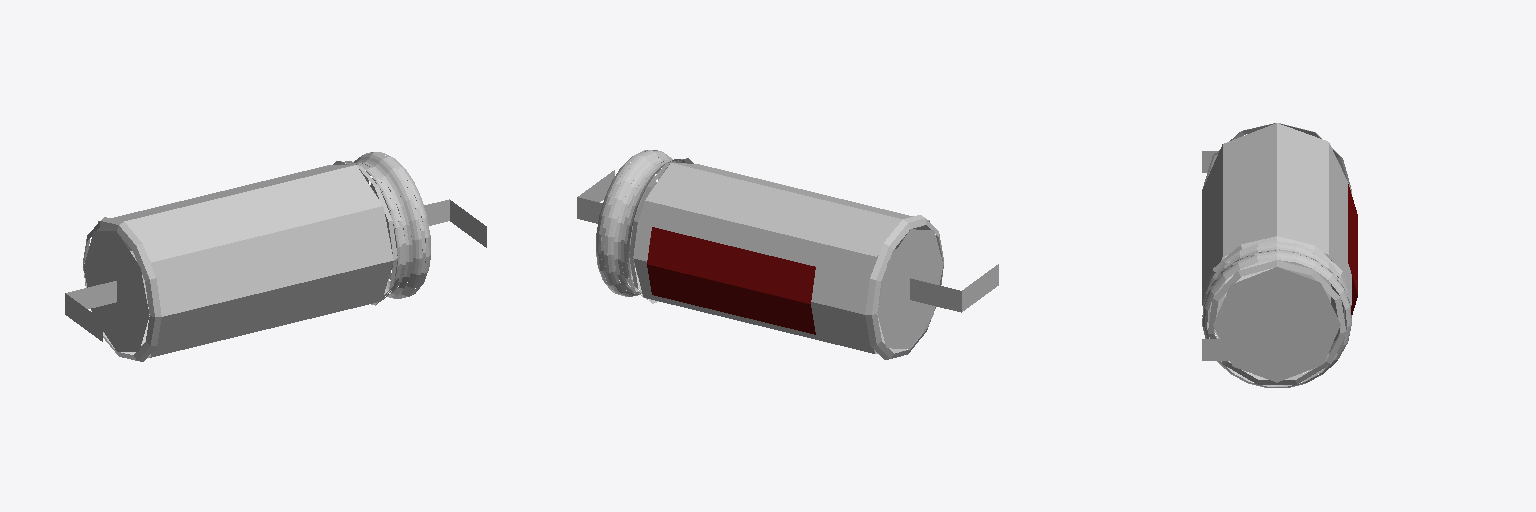
The picture shows the model from 3 angles: view 1: azimuth 30°, elevation 25°; view 2: azimuth 150°, elevation 25°; view 3: azimuth 270°, elevation 25°; orthographic projection.
Visible parts, largest first — view 1: ShapeIndexedFaceSet.015_ShapeIndexedFaceSet.016, ShapeIndexedFaceSet.016_ShapeIndexedFaceSet.017, ShapeIndexedFaceSet.014_ShapeIndexedFaceSet.015, ShapeIndexedFaceSet.017_ShapeIndexedFaceSet.018, ShapeIndexedFaceSet.018_ShapeIndexedFaceSet, ShapeIndexedFaceSet.011_ShapeIndexedFaceSet.012, ShapeIndexedFaceSet.007_ShapeIndexedFaceSet.008, ShapeIndexedFaceSet.010_ShapeIndexedFaceSet.011, ShapeIndexedFaceSet.003_ShapeIndexedFaceSet.004, ShapeIndexedFaceSet.006_ShapeIndexedFaceSet.007, ShapeIndexedFaceSet.005_ShapeIndexedFaceSet.006; view 2: ShapeIndexedFaceSet.015_ShapeIndexedFaceSet.016, ShapeIndexedFaceSet_ShapeIndexedFaceSet.001, ShapeIndexedFaceSet.001_ShapeIndexedFaceSet.002, ShapeIndexedFaceSet.016_ShapeIndexedFaceSet.017, ShapeIndexedFaceSet.014_ShapeIndexedFaceSet.015, ShapeIndexedFaceSet.017_ShapeIndexedFaceSet.018, ShapeIndexedFaceSet.011_ShapeIndexedFaceSet.012, ShapeIndexedFaceSet.007_ShapeIndexedFaceSet.008, ShapeIndexedFaceSet.018_ShapeIndexedFaceSet, ShapeIndexedFaceSet.010_ShapeIndexedFaceSet.011, ShapeIndexedFaceSet.003_ShapeIndexedFaceSet.004, ShapeIndexedFaceSet.005_ShapeIndexedFaceSet.006 (+1 smaller); view 3: ShapeIndexedFaceSet.015_ShapeIndexedFaceSet.016, ShapeIndexedFaceSet.012_ShapeIndexedFaceSet.013, ShapeIndexedFaceSet.013_ShapeIndexedFaceSet.014, ShapeIndexedFaceSet.018_ShapeIndexedFaceSet, ShapeIndexedFaceSet.010_ShapeIndexedFaceSet.011, ShapeIndexedFaceSet.009_ShapeIndexedFaceSet.010, ShapeIndexedFaceSet.003_ShapeIndexedFaceSet.004, ShapeIndexedFaceSet.005_ShapeIndexedFaceSet.006, ShapeIndexedFaceSet.001_ShapeIndexedFaceSet.002.
Boxes of the visible parts, x1=… form: ShapeIndexedFaceSet.015_ShapeIndexedFaceSet.016: x1=97, y1=165, x2=393, y2=357; ShapeIndexedFaceSet.016_ShapeIndexedFaceSet.017: x1=83, y1=231, x2=149, y2=351; ShapeIndexedFaceSet.014_ShapeIndexedFaceSet.015: x1=83, y1=217, x2=161, y2=361; ShapeIndexedFaceSet.017_ShapeIndexedFaceSet.018: x1=65, y1=281, x2=116, y2=341; ShapeIndexedFaceSet.018_ShapeIndexedFaceSet: x1=424, y1=199, x2=486, y2=247; ShapeIndexedFaceSet.011_ShapeIndexedFaceSet.012: x1=354, y1=153, x2=422, y2=298; ShapeIndexedFaceSet.007_ShapeIndexedFaceSet.008: x1=356, y1=159, x2=412, y2=295; ShapeIndexedFaceSet.010_ShapeIndexedFaceSet.011: x1=359, y1=152, x2=429, y2=294; ShapeIndexedFaceSet.003_ShapeIndexedFaceSet.004: x1=333, y1=161, x2=397, y2=305; ShapeIndexedFaceSet.006_ShapeIndexedFaceSet.007: x1=354, y1=157, x2=415, y2=297; ShapeIndexedFaceSet.005_ShapeIndexedFaceSet.006: x1=344, y1=163, x2=402, y2=294; ShapeIndexedFaceSet.015_ShapeIndexedFaceSet.016: x1=633, y1=163, x2=930, y2=353; ShapeIndexedFaceSet_ShapeIndexedFaceSet.001: x1=729, y1=247, x2=815, y2=334; ShapeIndexedFaceSet.001_ShapeIndexedFaceSet.002: x1=647, y1=227, x2=733, y2=314; ShapeIndexedFaceSet.016_ShapeIndexedFaceSet.017: x1=877, y1=229, x2=942, y2=348; ShapeIndexedFaceSet.014_ShapeIndexedFaceSet.015: x1=865, y1=215, x2=943, y2=359; ShapeIndexedFaceSet.017_ShapeIndexedFaceSet.018: x1=910, y1=264, x2=998, y2=312; ShapeIndexedFaceSet.011_ShapeIndexedFaceSet.012: x1=604, y1=151, x2=673, y2=296; ShapeIndexedFaceSet.007_ShapeIndexedFaceSet.008: x1=614, y1=157, x2=672, y2=293; ShapeIndexedFaceSet.018_ShapeIndexedFaceSet: x1=577, y1=170, x2=614, y2=223; ShapeIndexedFaceSet.010_ShapeIndexedFaceSet.011: x1=597, y1=150, x2=669, y2=295; ShapeIndexedFaceSet.003_ShapeIndexedFaceSet.004: x1=629, y1=158, x2=693, y2=303; ShapeIndexedFaceSet.005_ShapeIndexedFaceSet.006: x1=624, y1=161, x2=682, y2=294; ShapeIndexedFaceSet.015_ShapeIndexedFaceSet.016: x1=1202, y1=123, x2=1351, y2=342; ShapeIndexedFaceSet.012_ShapeIndexedFaceSet.013: x1=1213, y1=267, x2=1340, y2=382; ShapeIndexedFaceSet.013_ShapeIndexedFaceSet.014: x1=1208, y1=260, x2=1346, y2=384; ShapeIndexedFaceSet.018_ShapeIndexedFaceSet: x1=1202, y1=339, x2=1276, y2=360; ShapeIndexedFaceSet.010_ShapeIndexedFaceSet.011: x1=1202, y1=252, x2=1351, y2=387; ShapeIndexedFaceSet.009_ShapeIndexedFaceSet.010: x1=1205, y1=257, x2=1348, y2=387; ShapeIndexedFaceSet.003_ShapeIndexedFaceSet.004: x1=1202, y1=236, x2=1351, y2=305; ShapeIndexedFaceSet.005_ShapeIndexedFaceSet.006: x1=1212, y1=244, x2=1341, y2=347; ShapeIndexedFaceSet.001_ShapeIndexedFaceSet.002: x1=1348, y1=224, x2=1357, y2=314.
Size of the model in its own units: 15 by 5.08 by 5.28.